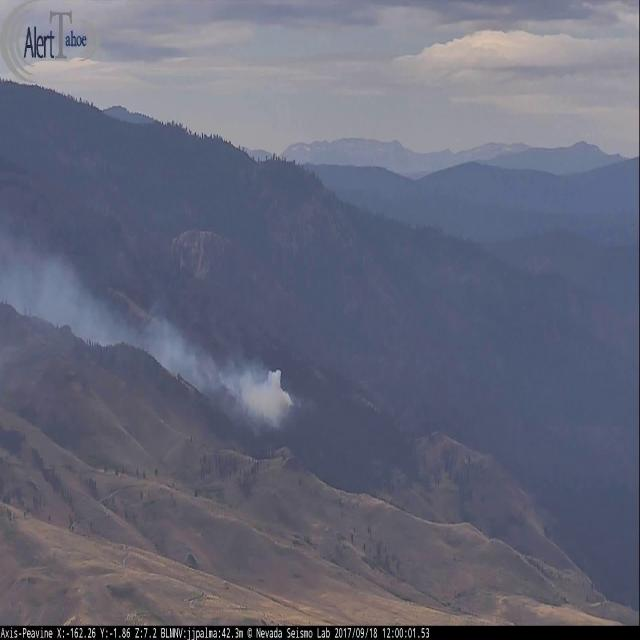smoke: (0, 234, 307, 436)
